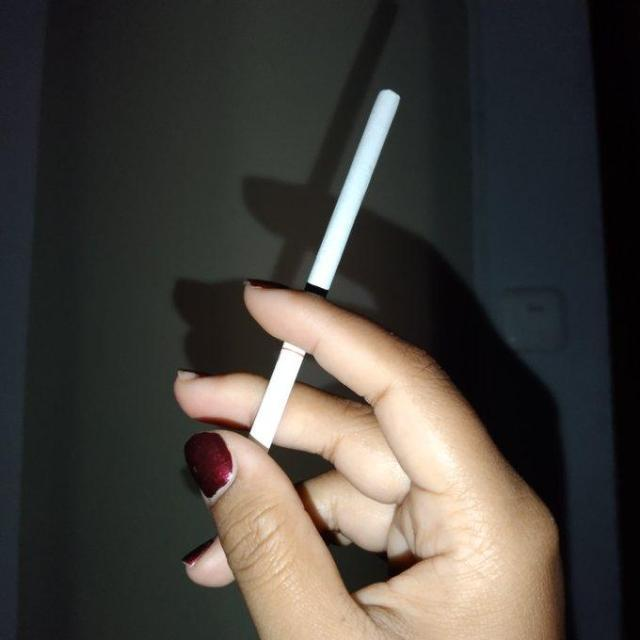rokok: (244, 80, 406, 458)
